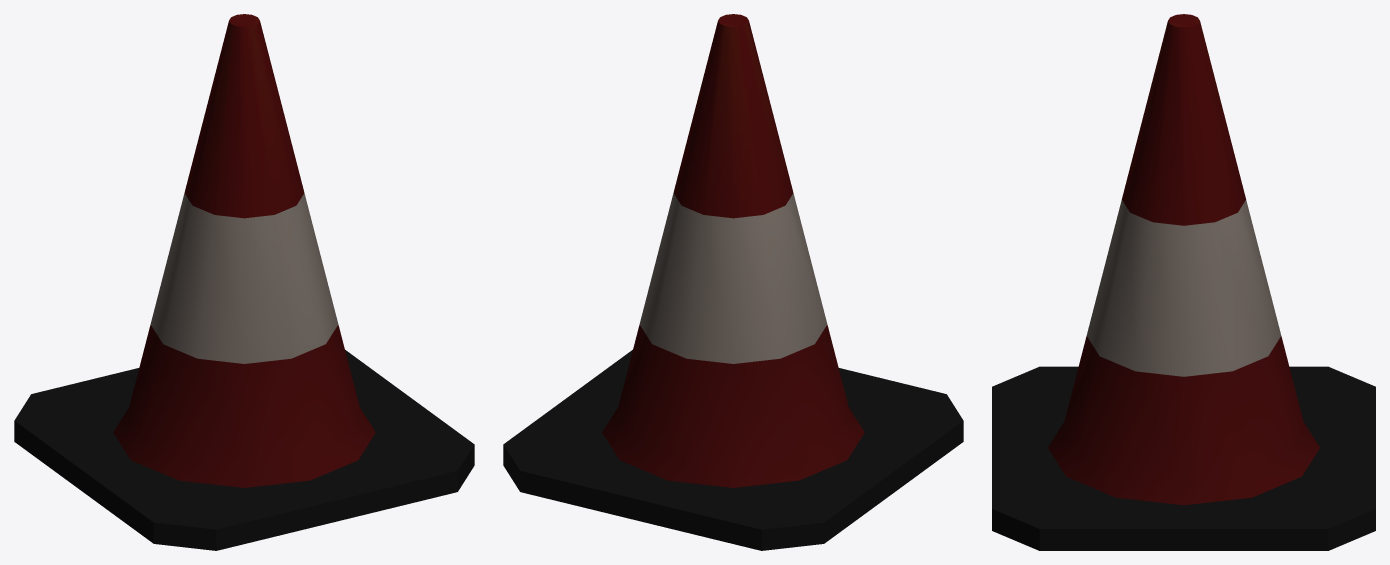
The model's file is TrafficCone_1.glb.
3 views of the same model, side by side, from view 1: azimuth 30°, elevation 25°; view 2: azimuth 150°, elevation 25°; view 3: azimuth 270°, elevation 25° (orthographic). The views are drawn at different scales.
Visible parts, largest first — view 1: TrafficCone_1; view 2: TrafficCone_1; view 3: TrafficCone_1.
Boxes of the visible parts, x1,y1,x2,y2 form: TrafficCone_1: (14, 14, 474, 550); TrafficCone_1: (503, 14, 963, 550); TrafficCone_1: (992, 14, 1375, 550).
Bounding box in the file's own units: 0.5216 × 0.6733 × 0.5216.
